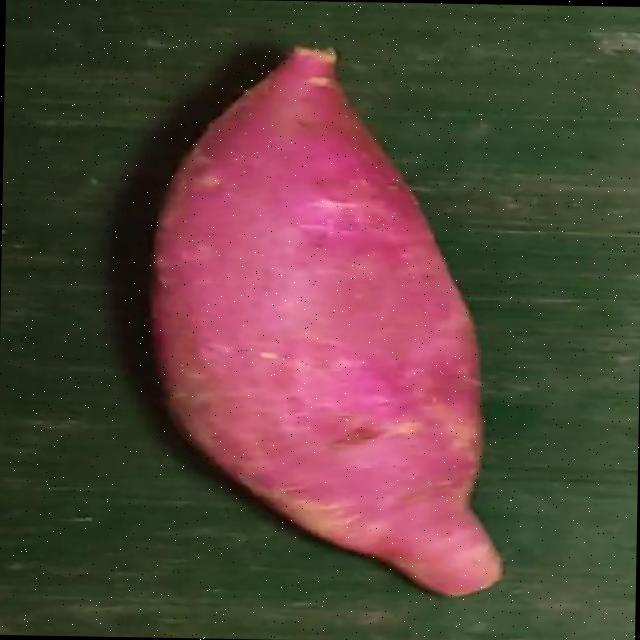Sweet Potato: (151, 46, 507, 597)
